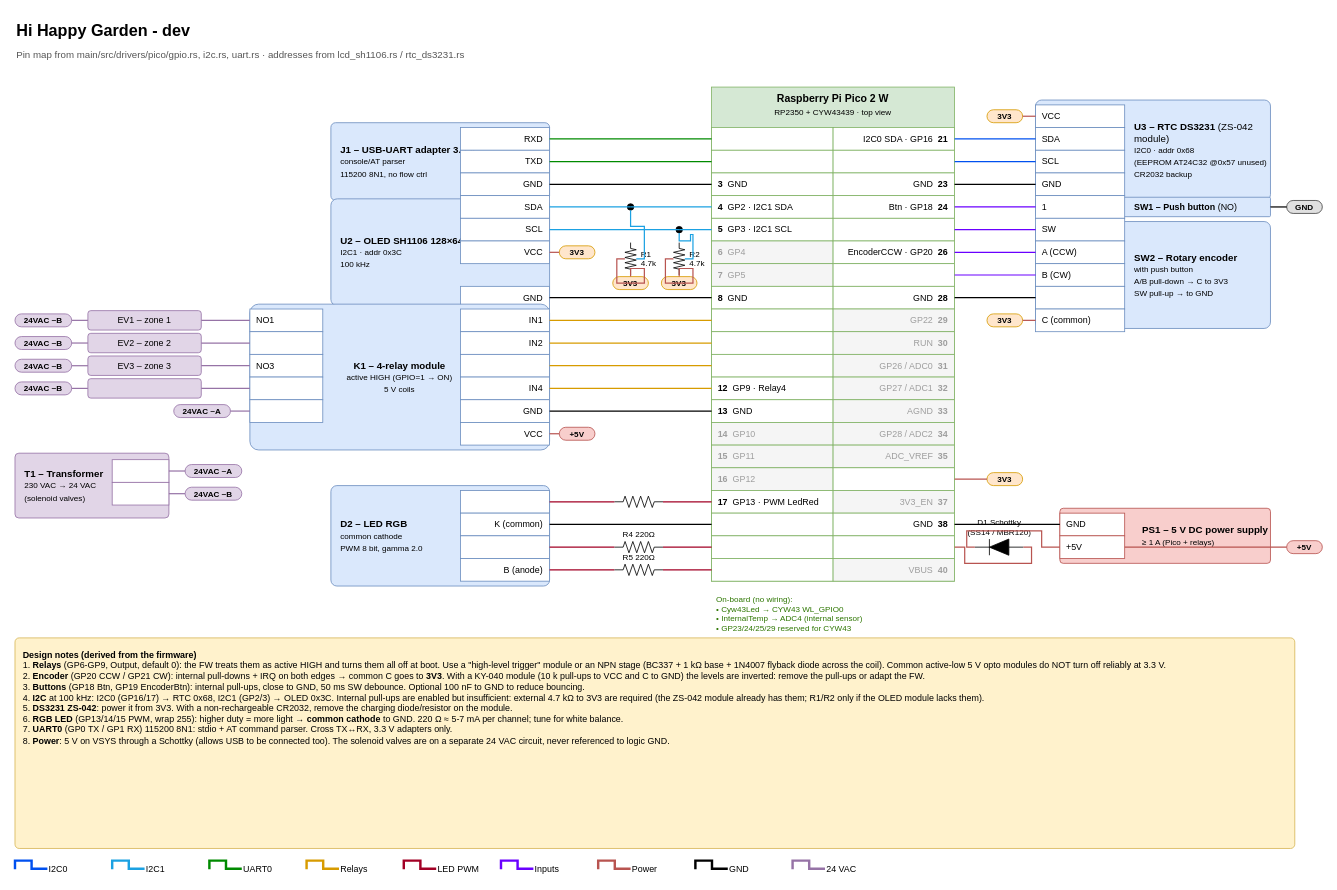
This 1337x890 diagram has some shape labels left out. The centre of each missing label's shape, as x and y in pixels:
1 GP0 · UART0 TX: the point at 772,138
10 GP7 · Relay2: the point at 772,342
11 GP8 · Relay3: the point at 772,365
18 GND: the point at 772,524
19 GP14 · PWM LedGreen: the point at 772,546
2 GP1 · UART0 RX: the point at 772,161
20 GP15 · PWM LedBlue: the point at 772,569
3V3_OUT 36: the point at 893,478
9 GP6 · Relay1: the point at 772,320
COM1..4: the point at 286,410
EncoderBtn · GP19 25: the point at 893,229
EncoderCW · GP21 27: the point at 893,274
EV4 – zone 4: the point at 144,388
G (anode): the point at 505,546
I2C0 SCL · GP17 22: the point at 893,161
IN3: the point at 505,365
NO2: the point at 286,342
NO4: the point at 286,388
R (anode): the point at 505,501
R3 220Ω: the point at 638,501
SW-GND: the point at 1080,297
VSYS 39: the point at 893,546
~A: the point at 140,470
~B: the point at 140,493
